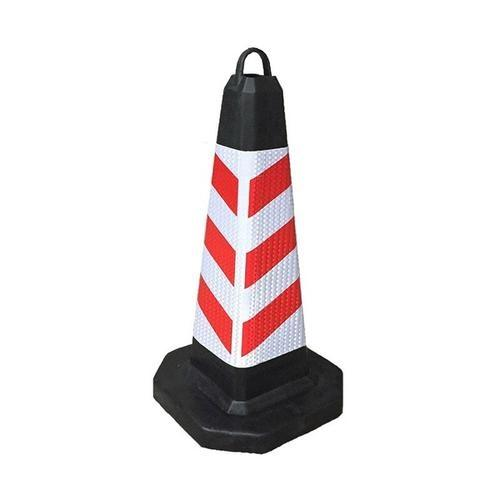cone_barrel: (156, 46, 344, 437)
